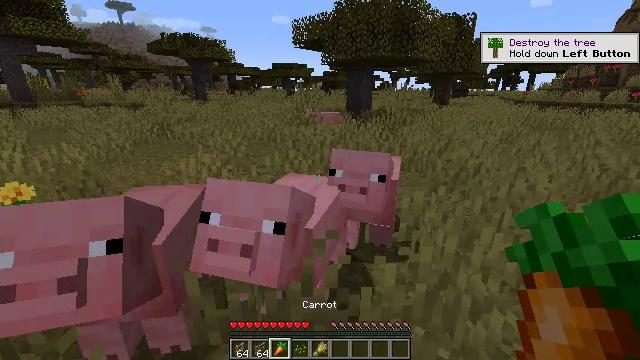pig: (0, 176, 207, 360), (197, 166, 337, 300), (333, 155, 402, 253), (305, 110, 342, 131)
